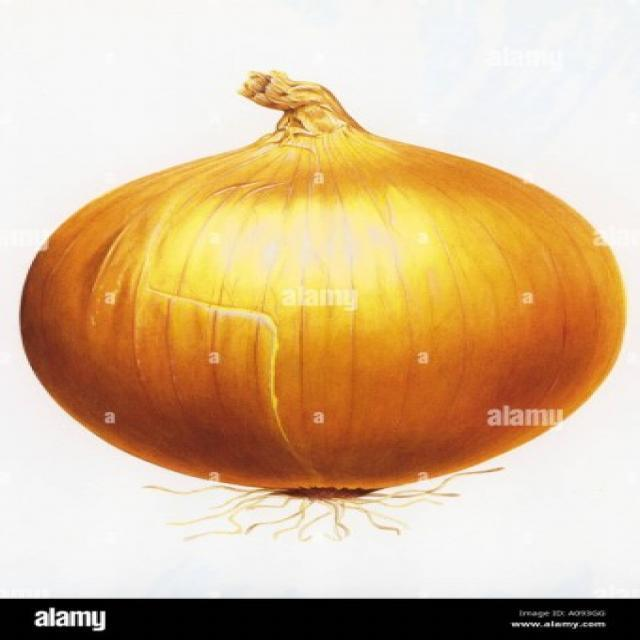onion: (12, 65, 630, 532)
